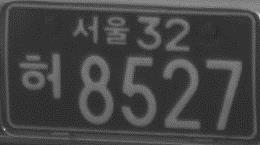2: (158, 57, 202, 132), (162, 17, 192, 53)
3: (134, 14, 162, 51)
5: (119, 54, 159, 129)
7: (202, 57, 244, 133)
8: (76, 54, 117, 125)
서울_O: (71, 13, 131, 49)
허: (18, 51, 65, 101)
